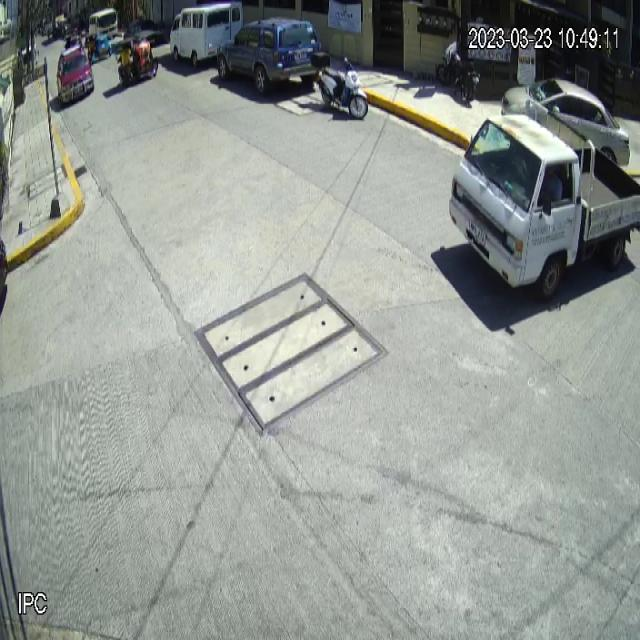Car: (218, 17, 324, 99)
Motorcycle: (312, 48, 369, 120)
Truck: (448, 114, 640, 301)
Van: (170, 1, 245, 67)
